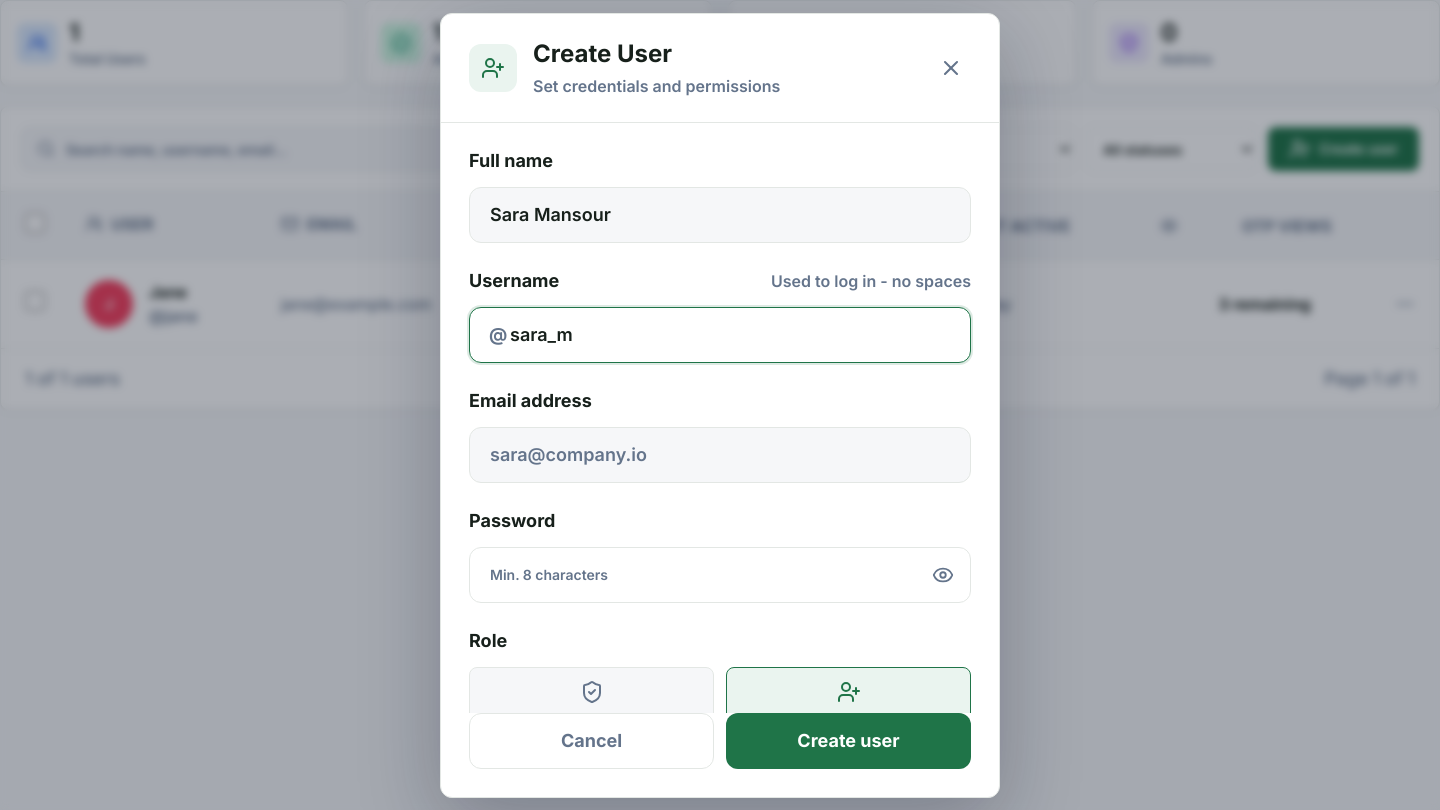
admin workflows › preserves credentials and selected grants through role changes and failed submissions
The image size is (1440, 810).
Earlier steps of the test are not shown.
Step 1. Type "sara@example.com" into the field labelled "Email address" → (720, 454), box [469, 426, 971, 482]
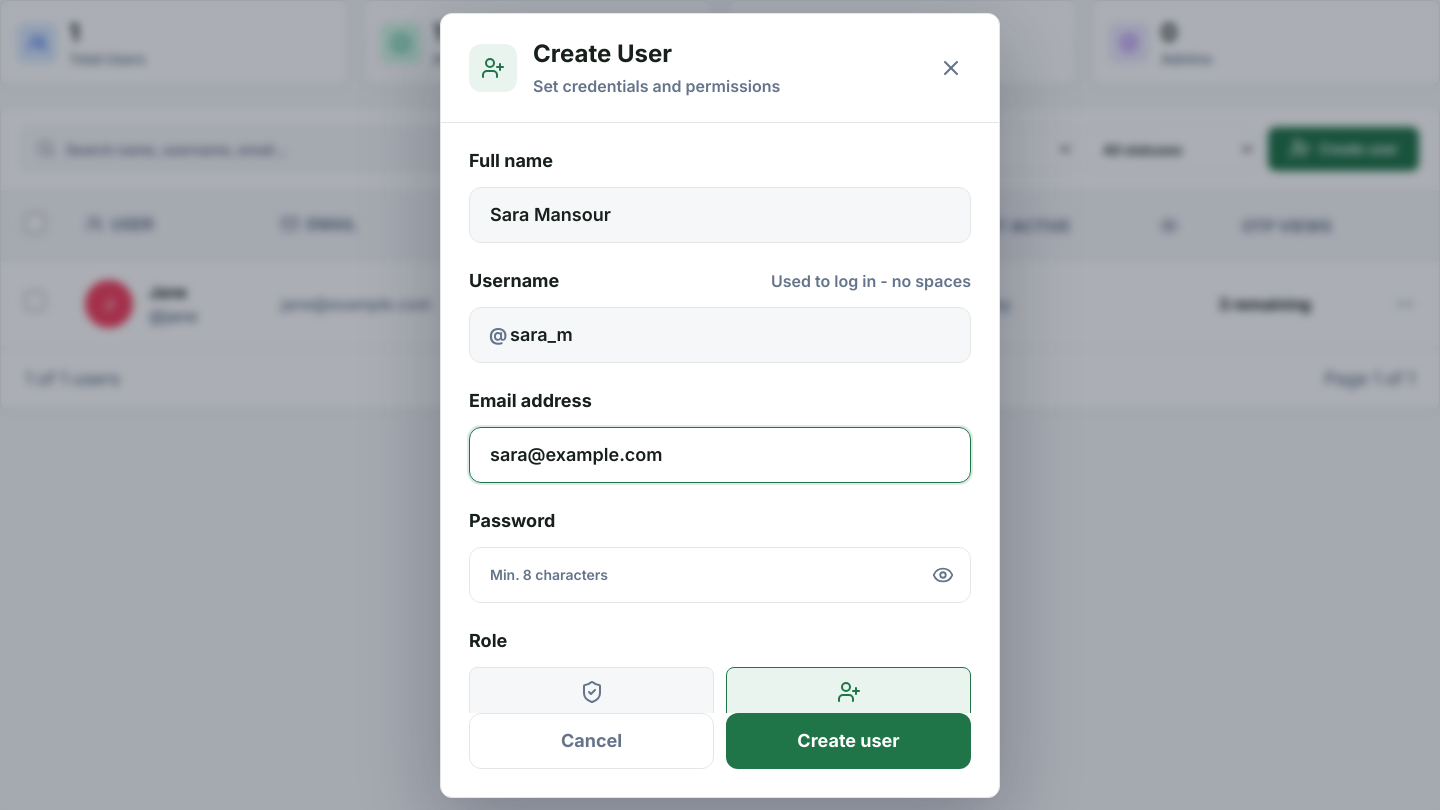
Step 2. Type "temporary123" into the password field labelled "Password" → (720, 574), box [469, 546, 971, 602]
(page scrolled)
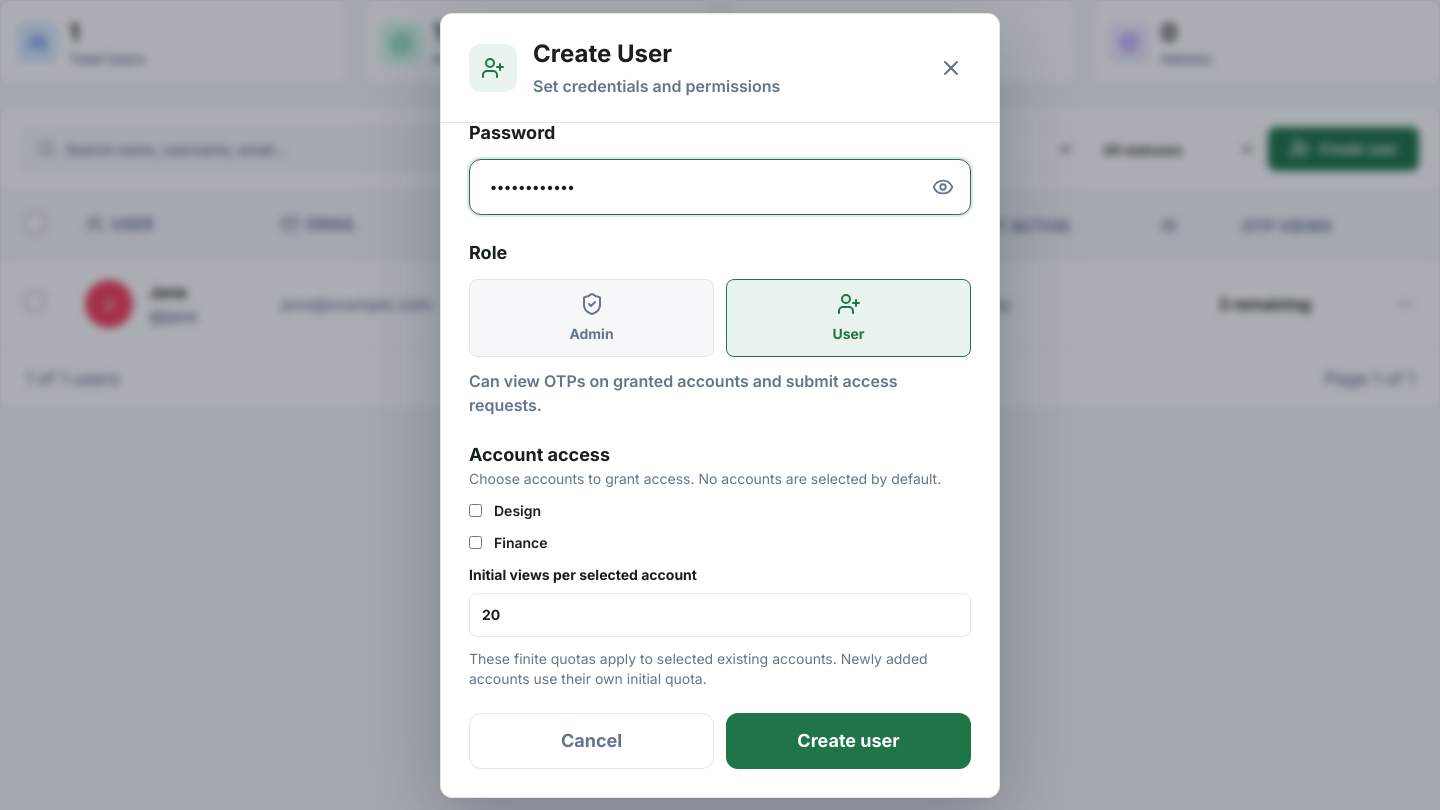
Expected: the checkbox labelled "Design" is not checked
Step 3. Click the checkbox labelled "Design" → (476, 510), box [469, 504, 482, 517]
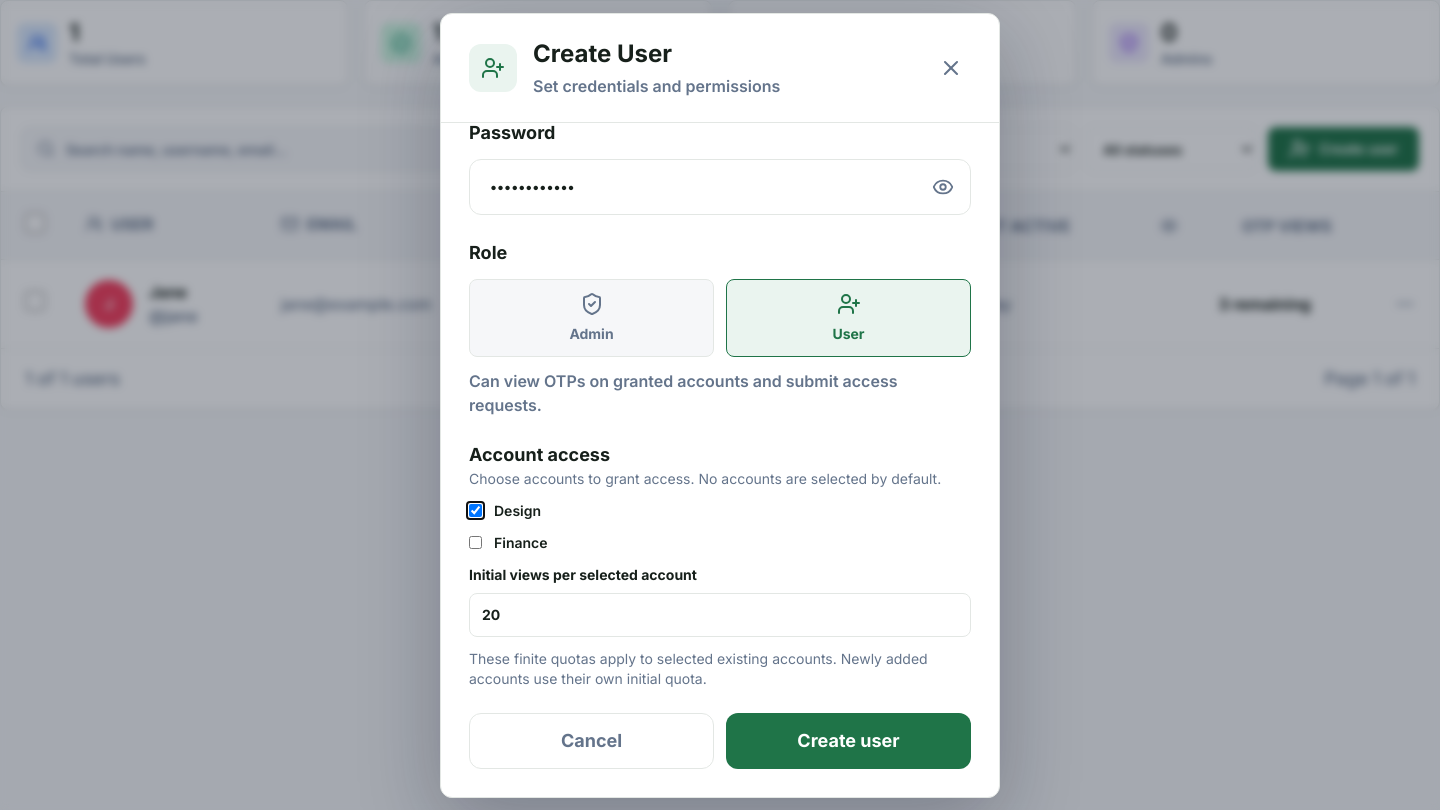
Step 4. Replace the text in the number field labelled "Initial views per selected account" with "123" → (720, 614), box [469, 592, 971, 636]
Step 5. Click the button "Admin" → (592, 318), box [469, 278, 714, 356]
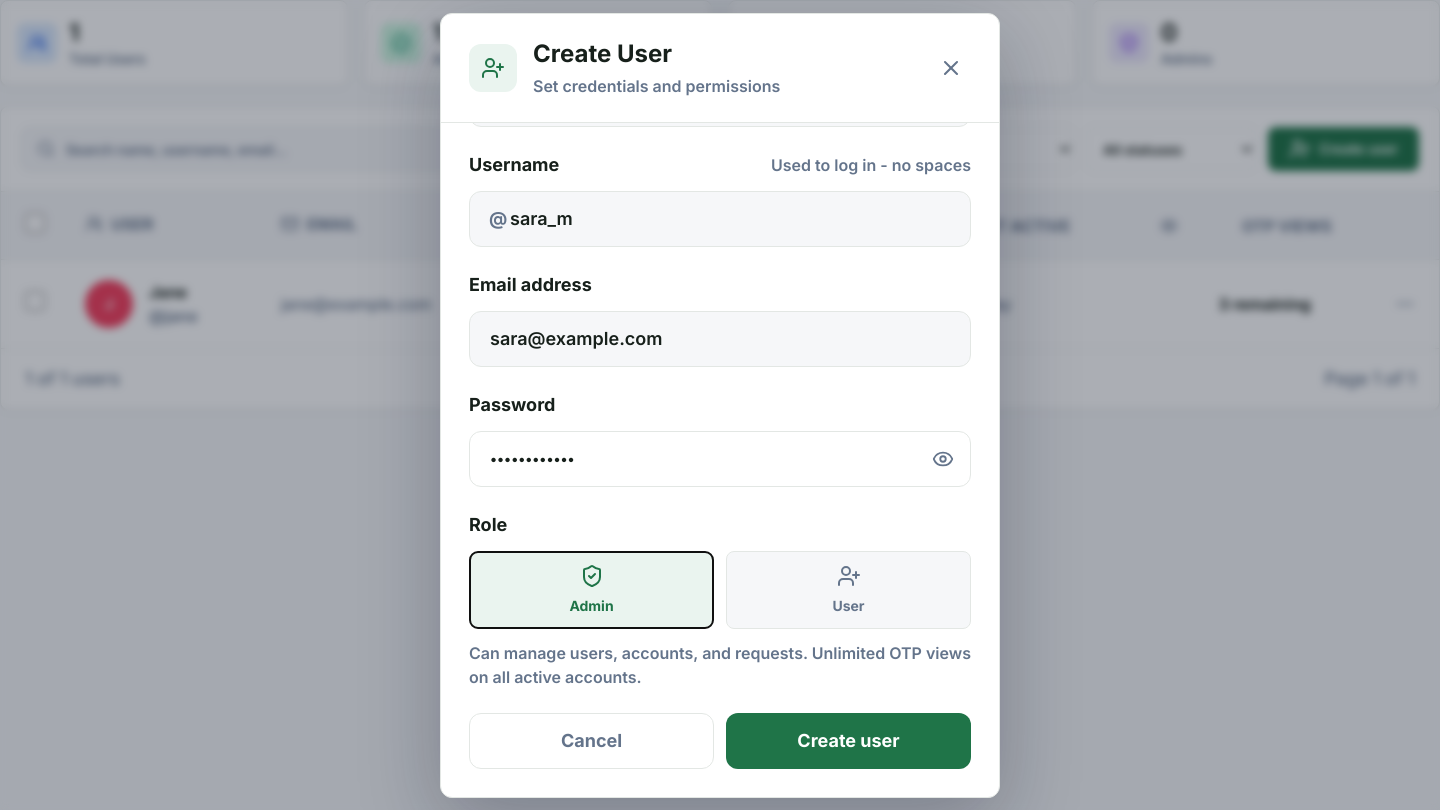
Step 6. Click the button "User" → (848, 590), box [726, 550, 971, 628]
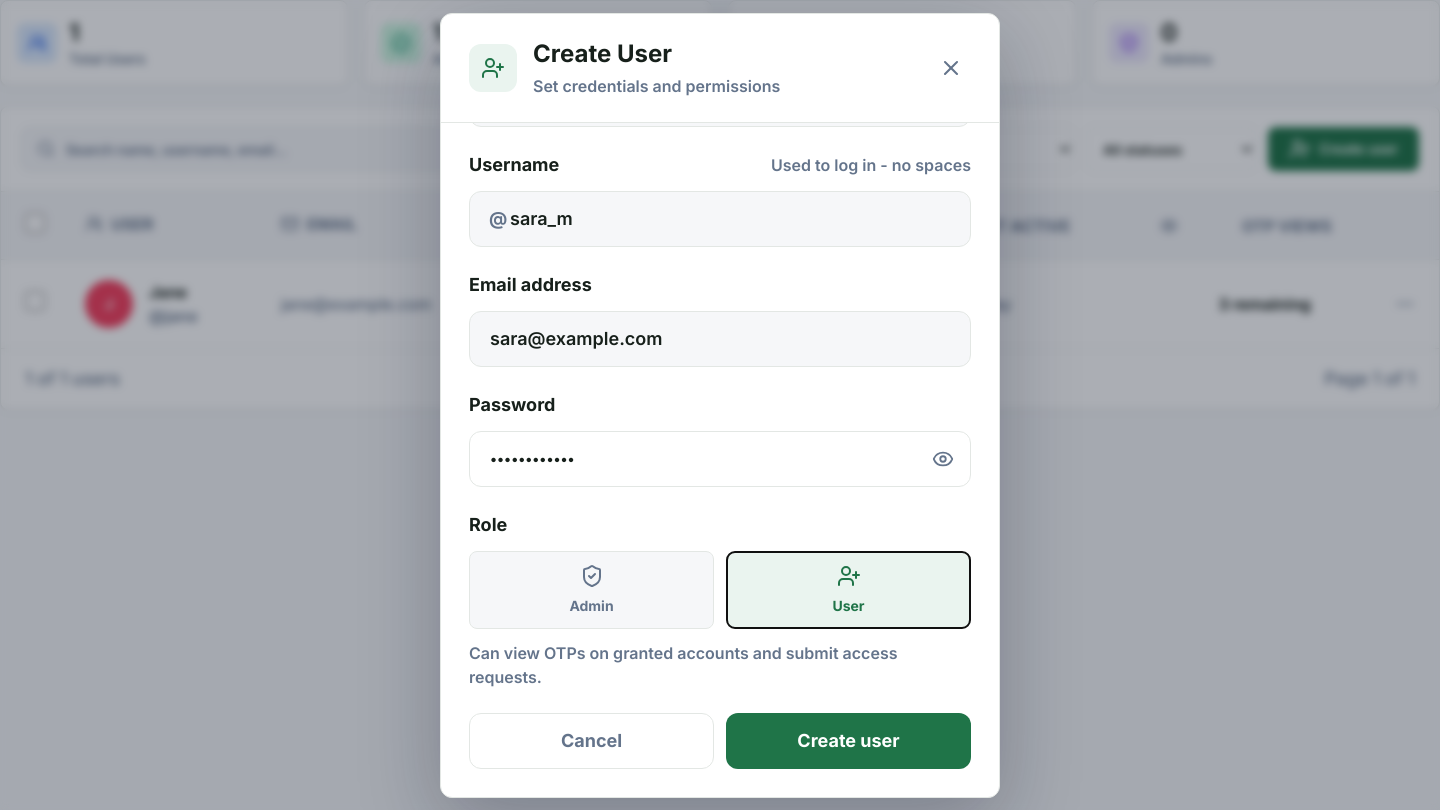
Step 7. Click the button "Create user" → (848, 740), box [726, 712, 971, 768]
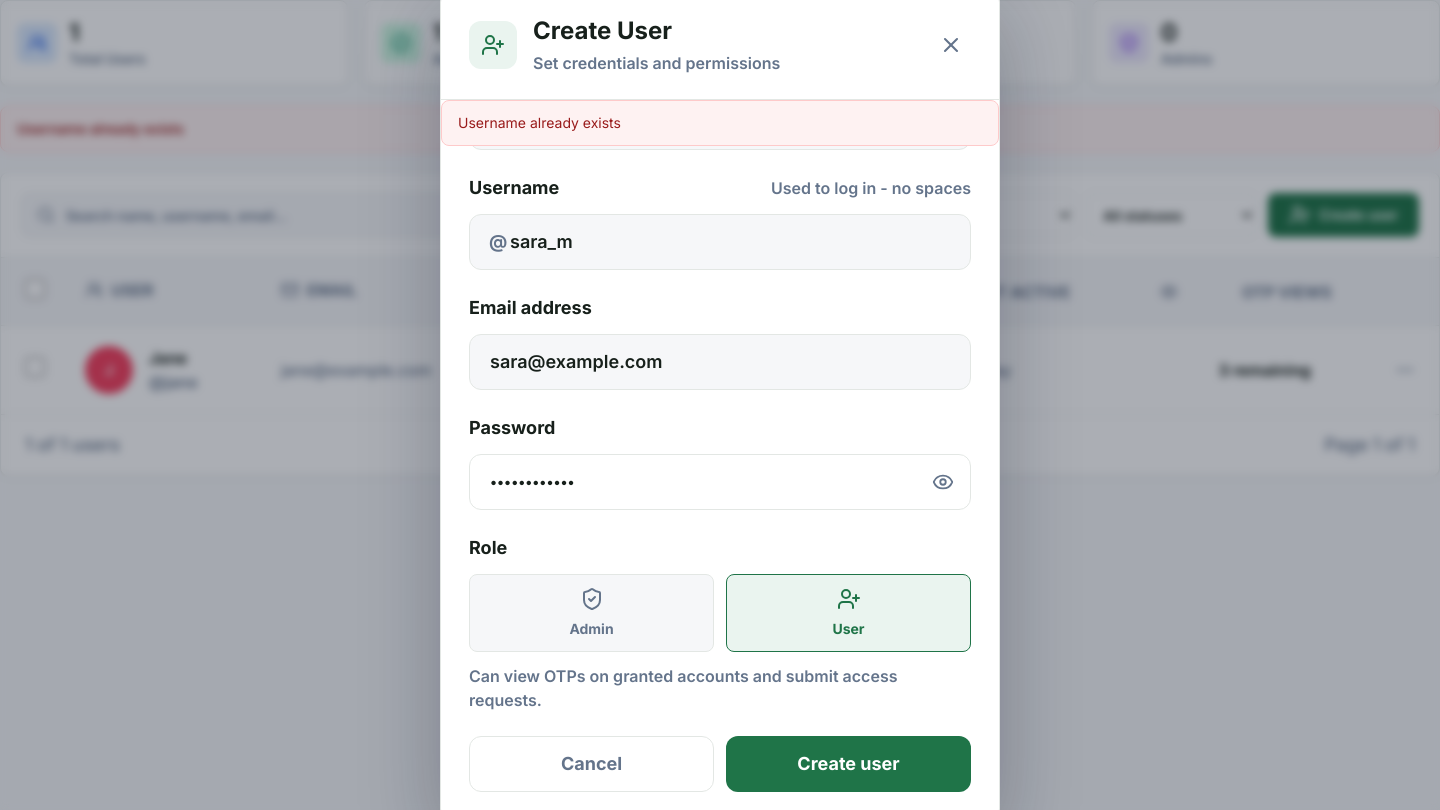
Expected: the button "Create user" is enabled, [726, 736, 971, 792]
Expected: the message reads "Username already exists", [458, 114, 621, 130]
